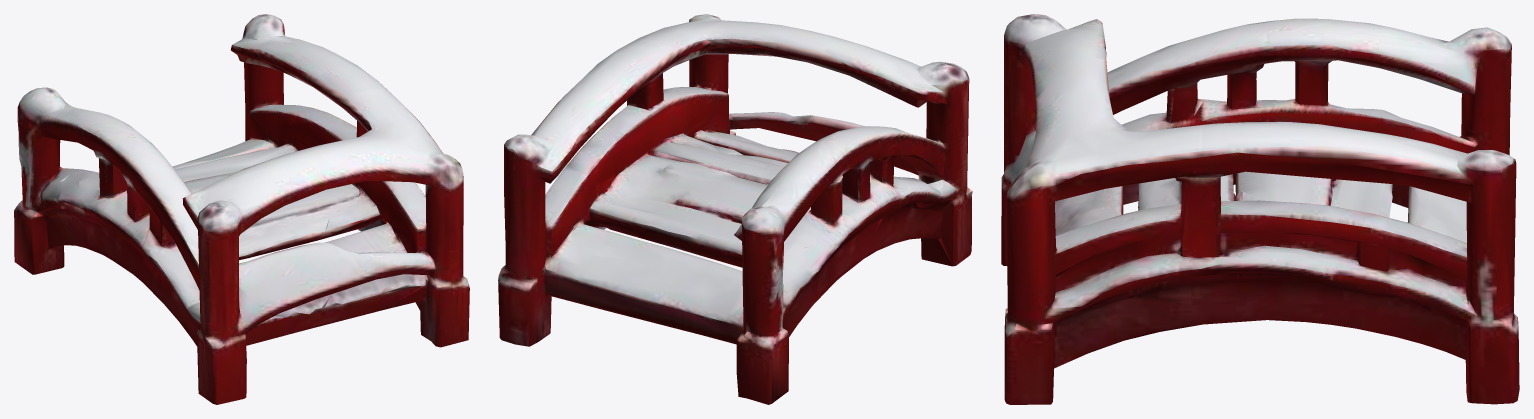
Rendered from bridge.glb.
3 renders of one model, left to right at view 1: azimuth 30°, elevation 25°; view 2: azimuth 150°, elevation 25°; view 3: azimuth 270°, elevation 25°, orthographic. The views are drawn at different scales.
Parts seen in each view (by area): view 1: bridge; view 2: bridge; view 3: bridge.
Boxes of the visible parts, left/top/right/bottom form: bridge: left=14, top=14, right=469, bottom=404; bridge: left=498, top=14, right=972, bottom=404; bridge: left=1001, top=14, right=1519, bottom=404.
Size of the model in its own units: 1.48 by 1.1 by 1.96.
Materials: 1 (1 with a texture image).
